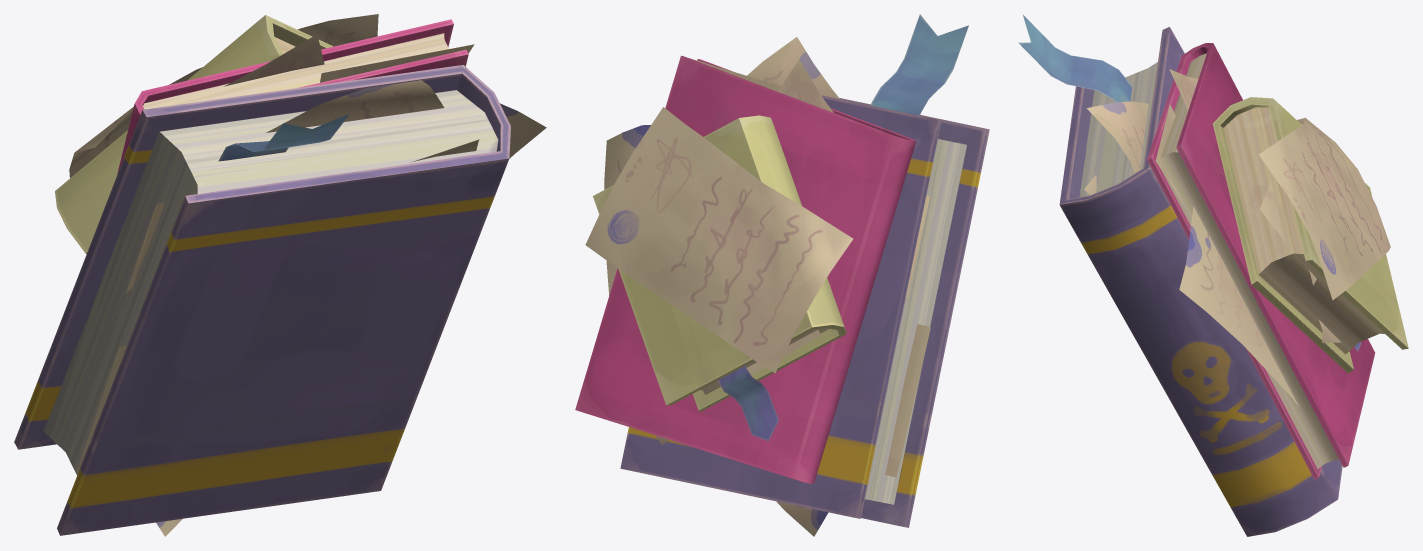
File: Book.glb
3 views of the same model, side by side, from view 1: azimuth 30°, elevation 25°; view 2: azimuth 150°, elevation 25°; view 3: azimuth 270°, elevation 25° (orthographic). The views are drawn at different scales.
Parts seen in each view (by area): view 1: big book; view 2: big book; view 3: big book.
Part boxes in pixels (box(x1,y1,x2,y2)): big book: box(14, 14, 546, 536); big book: box(575, 14, 989, 536); big book: box(1018, 14, 1408, 536).
Size of the model in its own units: 4.84 by 5.74 by 4.63.
Materials: 1 (1 with a texture image).
